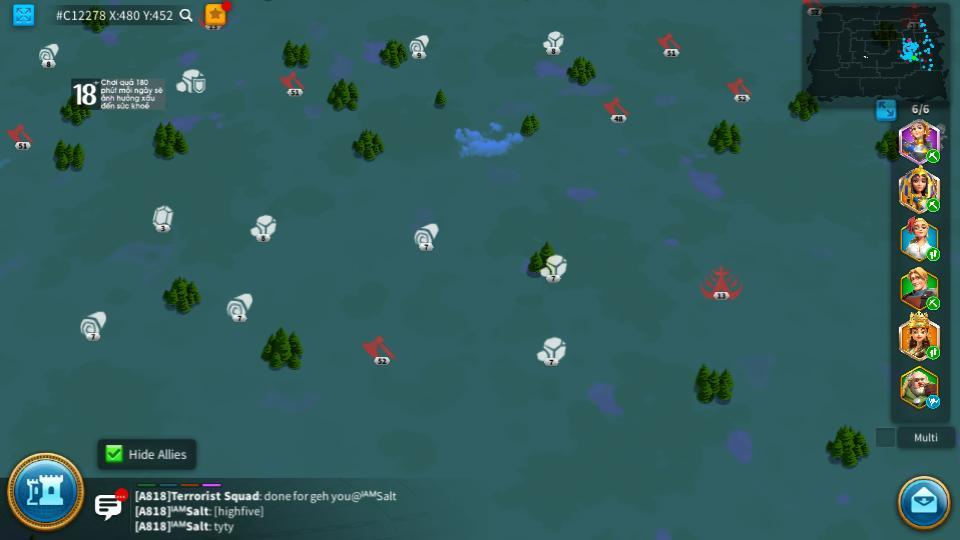gem-z-out: (151, 204, 174, 230)
march_farming: (924, 197, 939, 212), (925, 248, 941, 261)
march_idle: (925, 396, 942, 408)
march_marching: (925, 345, 941, 359), (925, 150, 942, 162), (925, 297, 942, 308)
